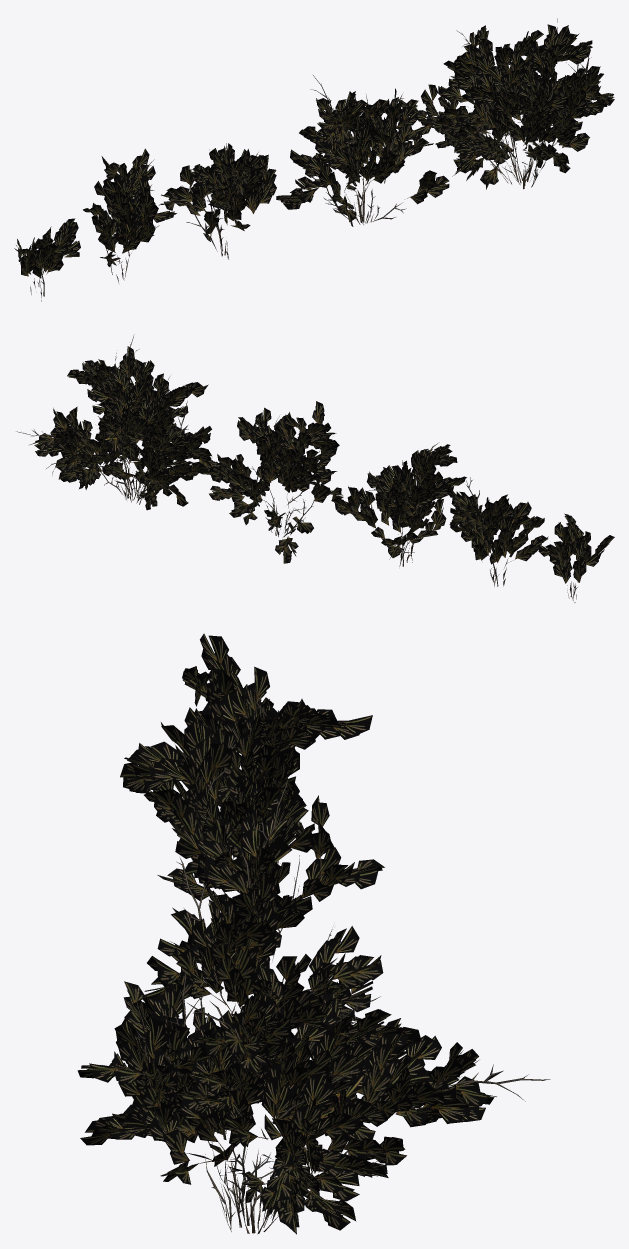
File: wild_rooibos_bush.glb
The picture shows the model from 3 angles, top to bottom: view 1: azimuth 30°, elevation 25°; view 2: azimuth 150°, elevation 25°; view 3: azimuth 270°, elevation 25°; orthographic projection. The views are drawn at different scales.
Parts seen in each view (by area): view 1: wild_rooibos_bush_a; view 2: wild_rooibos_bush_a; view 3: wild_rooibos_bush_a.
Boxes of the visible parts, x1,y1,x2,y2 form: wild_rooibos_bush_a: (14,18,614,301); wild_rooibos_bush_a: (16,334,614,602); wild_rooibos_bush_a: (77,633,550,1234).
Size of the model in its own units: 2.27 by 0.541 by 0.8432.
2 materials, 2 textured.
